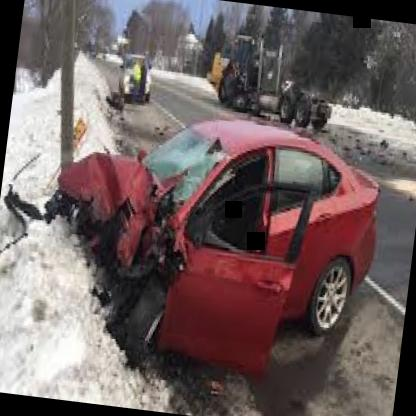accident: (14, 75, 416, 388)
